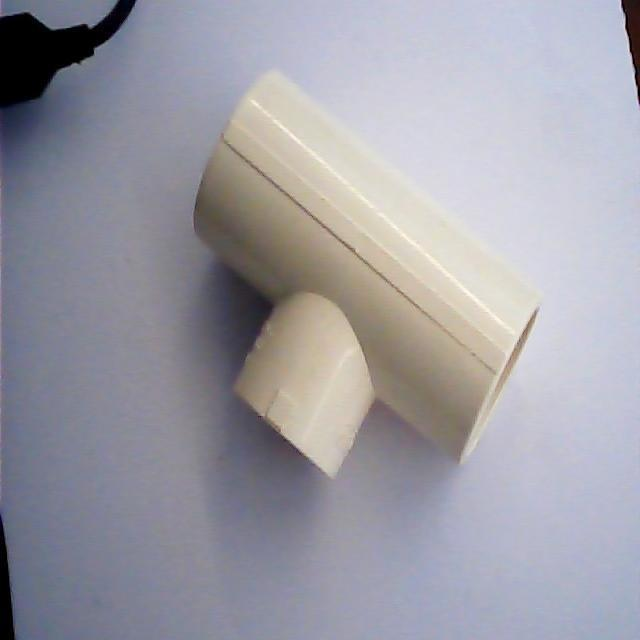T Joint: (190, 70, 542, 480)
